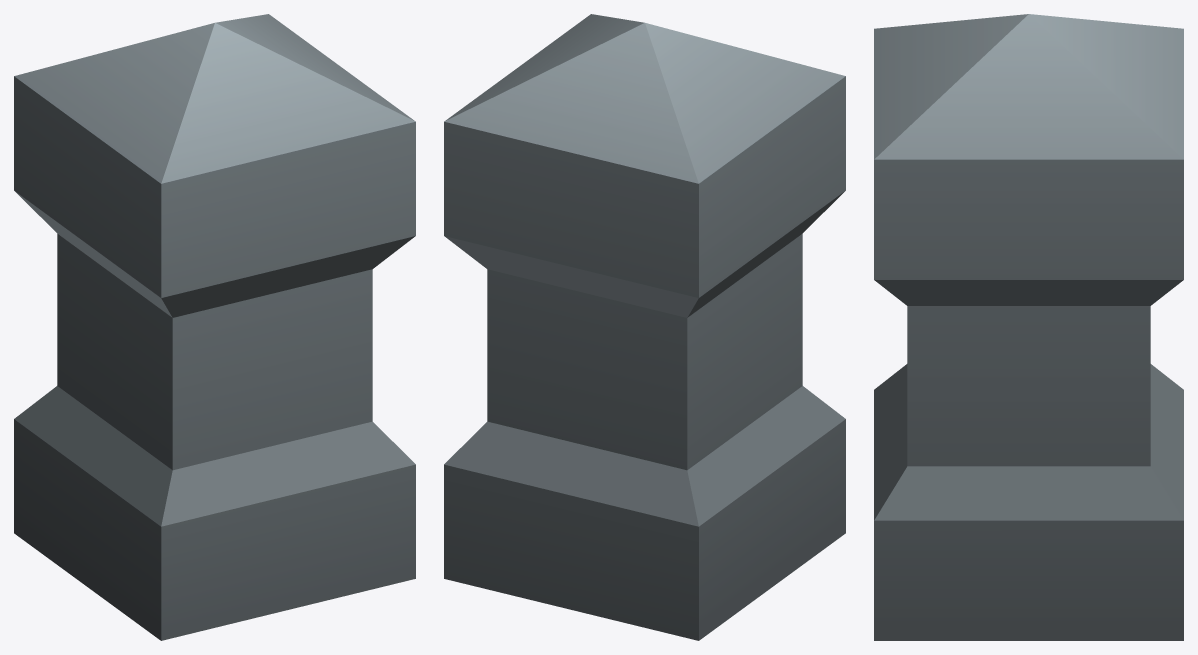
File: dungeon-column.glb
3 views of the same model, side by side, from view 1: azimuth 30°, elevation 25°; view 2: azimuth 150°, elevation 25°; view 3: azimuth 270°, elevation 25° (orthographic). The views are drawn at different scales.
Visible parts, largest first — view 1: dungeon-column; view 2: dungeon-column; view 3: dungeon-column.
Part boxes in pixels (x1,y1,x2,y2): dungeon-column: (14, 14, 415, 640); dungeon-column: (444, 14, 845, 640); dungeon-column: (874, 14, 1183, 640).
Bounding box in the file's own units: 0.5251 × 1.05 × 0.5251.
1 material, 1 textured.
